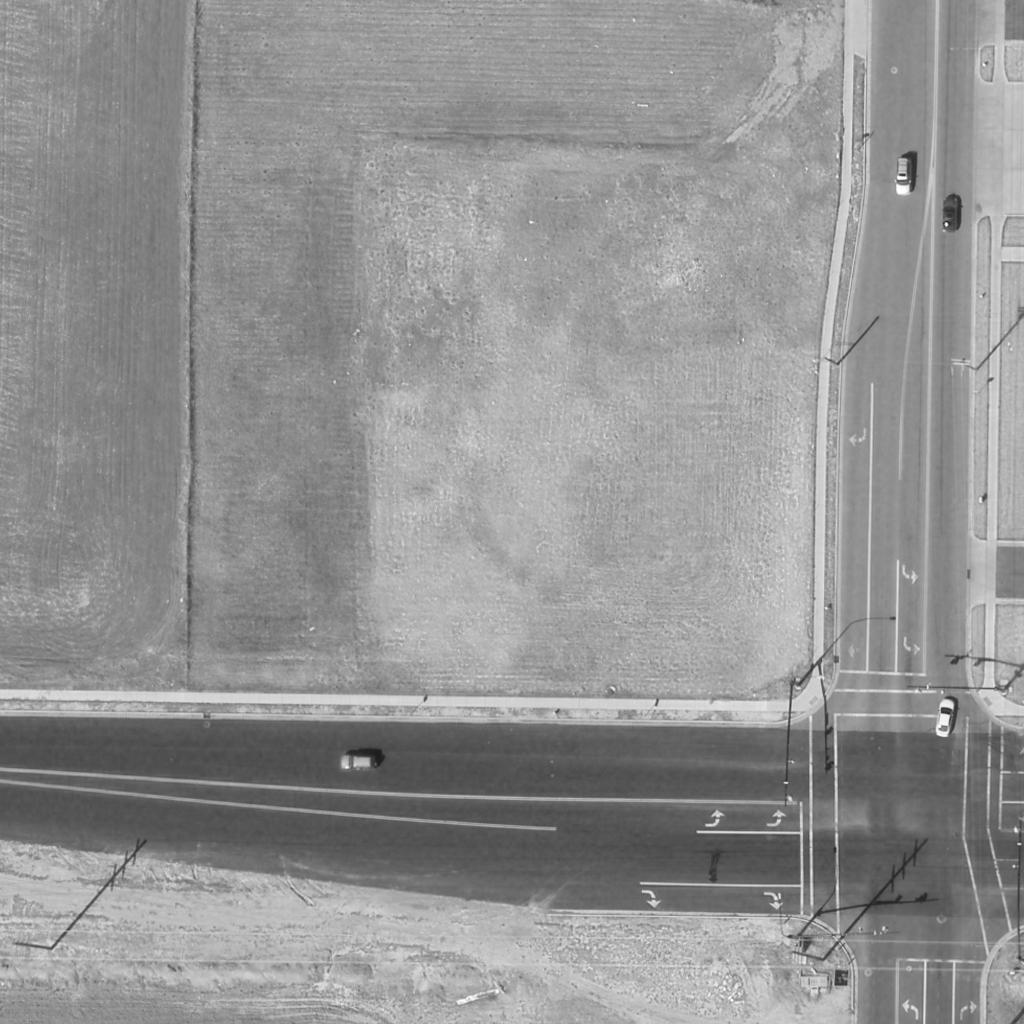vehicle: (934, 697, 958, 739), (340, 754, 380, 772), (896, 158, 914, 198), (942, 196, 960, 234)
